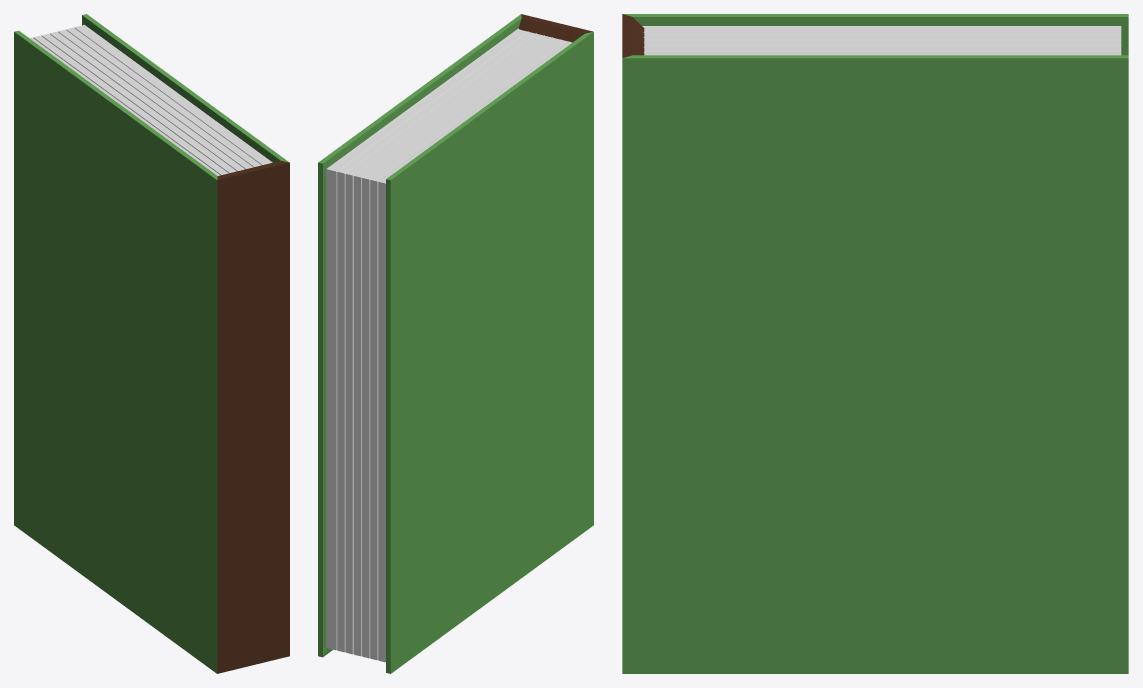
The model's file is book2.fbx.
3 views of the same model, side by side, from view 1: azimuth 30°, elevation 25°; view 2: azimuth 150°, elevation 25°; view 3: azimuth 270°, elevation 25° (orthographic). The views are drawn at different scales.
Visible parts, largest first — view 1: Cube; view 2: Cube; view 3: Cube.
Part boxes in pixels (x1,y1,x2,y2): Cube: [14, 14, 289, 673]; Cube: [318, 14, 593, 673]; Cube: [622, 14, 1128, 673].
Bounding box in the file's own units: 12.22 × 79.32 × 59.13.
